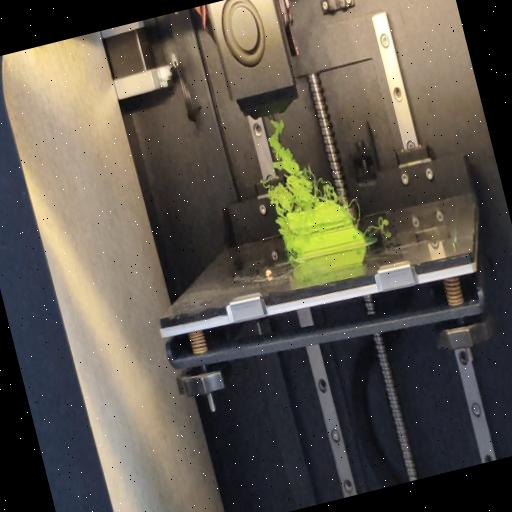spaghetti: (250, 107, 341, 217), (278, 218, 300, 265), (363, 212, 393, 238), (350, 195, 366, 232)
